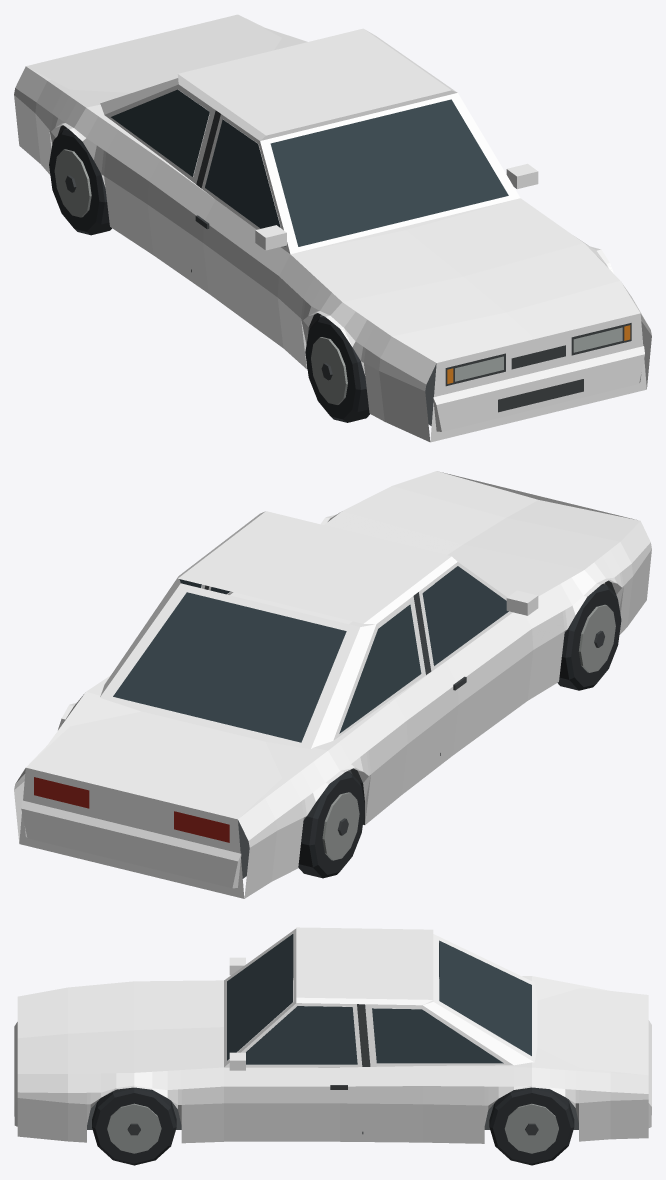
The model's file is kanaya_asakaze_s.glb.
3 views of the same model, one above another, from view 1: azimuth 30°, elevation 25°; view 2: azimuth 150°, elevation 25°; view 3: azimuth 270°, elevation 25° (orthographic). The views are drawn at different scales.
Parts seen in each view (by area): view 1: kanaya_asakaze_s; view 2: kanaya_asakaze_s; view 3: kanaya_asakaze_s.
Part boxes in pixels (x1,y1,x2,y2): kanaya_asakaze_s: [14, 14, 651, 442]; kanaya_asakaze_s: [14, 471, 651, 898]; kanaya_asakaze_s: [14, 927, 651, 1165].
Size of the model in its own units: 1.82 by 1.25 by 4.7.
Materials: 8 (1 with a texture image).
